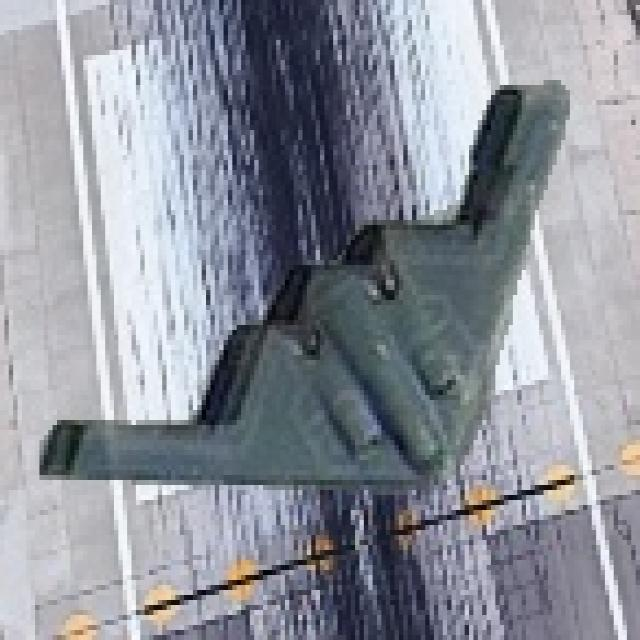B-2_TopDown: (35, 70, 570, 495)
